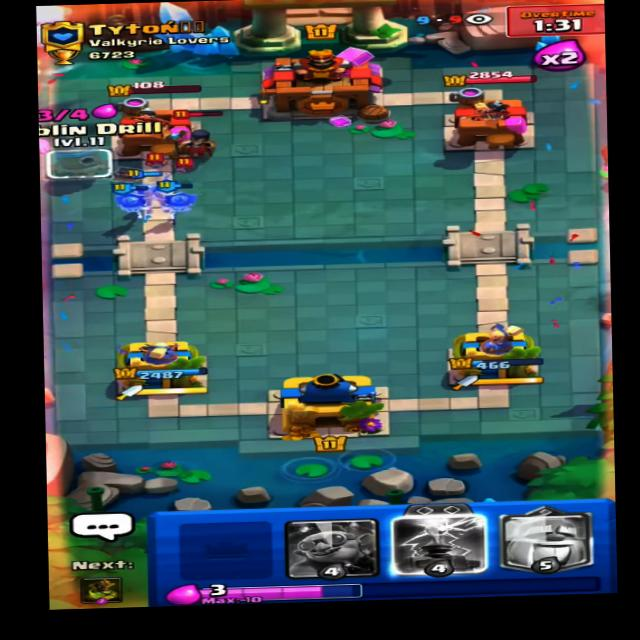bats: (138, 148, 180, 171), (175, 158, 205, 174)
night-witch: (173, 108, 233, 157)
